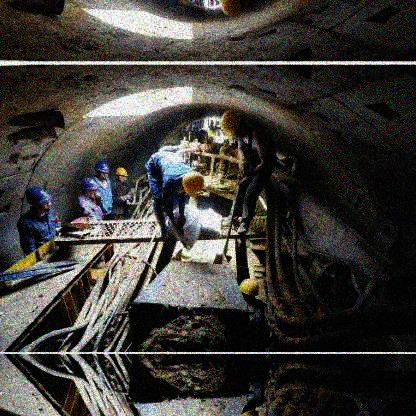helmet: (219, 110, 247, 141), (26, 184, 53, 215), (179, 172, 205, 196), (81, 178, 97, 200), (94, 161, 111, 181), (115, 167, 128, 185)
